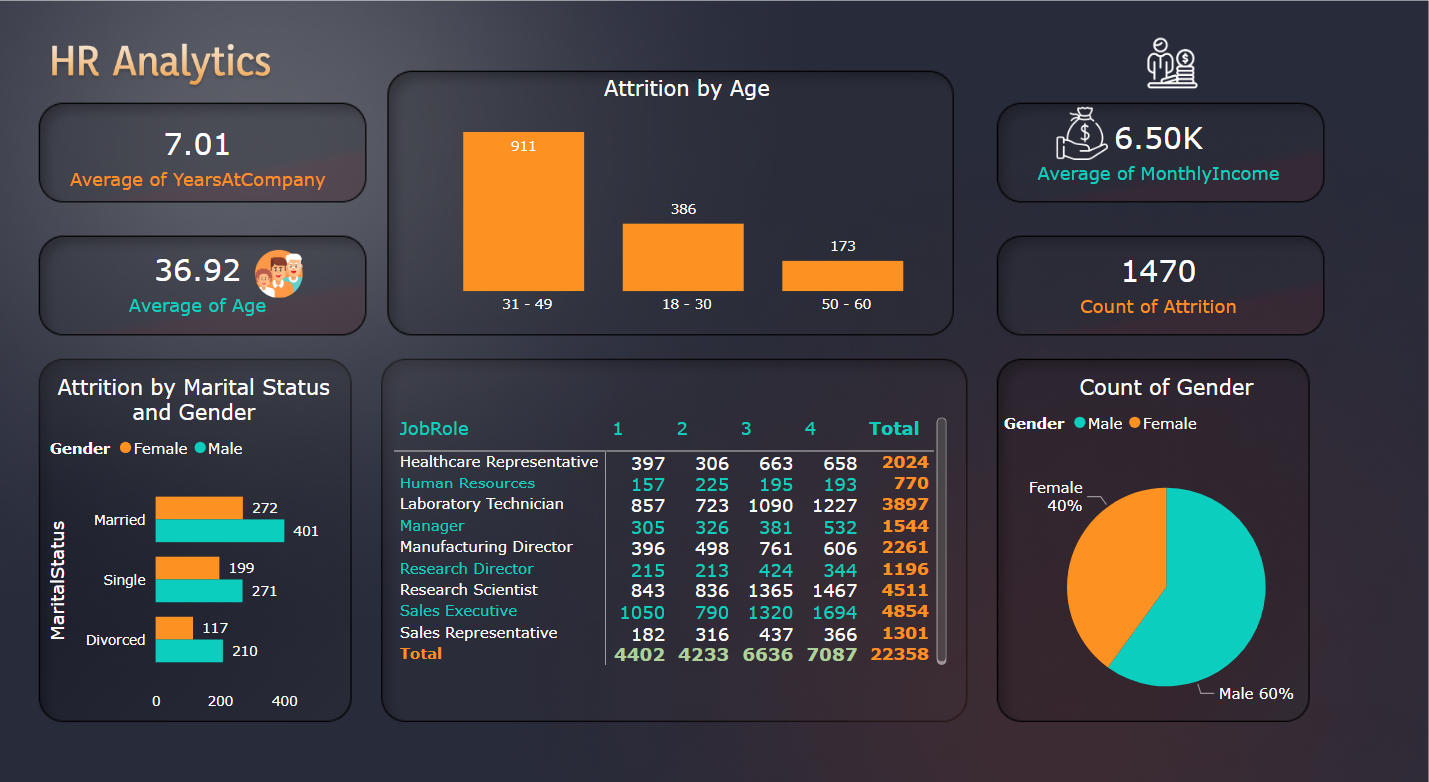

Layout of this report page (visuals, bound fields, positions):
{"tool":"powerbi","page":{"name":"Homepage","canvas":[1280,720],"ordinal":0},"visuals":[{"type":"image","box":[0,0,1279.7,720],"z":0},{"type":"card","fields":{"Values":["CountNonNull(HR-Employee-Attrition.Attrition)"]},"box":[892.8,216.7,284.8,92.2],"z":1000},{"type":"card","fields":{"Values":["Avg(HR-Employee-Attrition.MonthlyIncome)"]},"box":[911.6,96.7,246.3,94.9],"z":2000},{"type":"card","fields":{"Values":["Avg(HR-Employee-Attrition.Age)"]},"box":[86,226.6,182.7,73.4],"z":3000},{"type":"card","fields":{"Values":["Avg(HR-Employee-Attrition.YearsAtCompany)"]},"box":[60,103,249.9,81.5],"z":4000},{"type":"pieChart","title":"Count of Gender ","fields":{"Category":["HR-Employee-Attrition.Gender"],"Y":["CountNonNull(HR-Employee-Attrition.Gender)"]},"box":[885.7,343.9,281.2,307.2],"z":5000},{"type":"clusteredBarChart","title":" Attrition by Marital Status and Gender","fields":{"Category":["HR-Employee-Attrition.MaritalStatus"],"Y":["CountNonNull(HR-Employee-Attrition.Attrition)"],"Series":["HR-Employee-Attrition.Gender"]},"box":[44.1,344.1,266.2,307.4],"z":6000},{"type":"pivotTable","fields":{"Rows":["HR-Employee-Attrition.JobRole"],"Columns":["HR-Employee-Attrition.JobSatisfaction"],"Values":["Sum(HR-Employee-Attrition.PercentSalaryHike)"]},"box":[356,367.7,506.7,231.5],"z":7000},{"type":"columnChart","title":" Attrition by Age","fields":{"Category":["HR-Employee-Attrition.Age (groups)"],"Y":["CountNonNull(HR-Employee-Attrition.Attrition)"]},"box":[355.5,79.7,490.7,229.3],"z":8000},{"type":"image","box":[78.8,37.6,189.9,65.4],"z":9000},{"type":"image","box":[938.7,97.3,57.3,64],"z":10000},{"type":"image","box":[225.5,228.7,55.3,52.1],"z":11000},{"type":"image","box":[1009.9,38,74.6,59.2],"z":12000}]}

Visuals, with their boxes in screenshot pixels (x1, y1, x2, y2), scaled from the page's 1280x720 canvas onto the 1429x782 screenshot:
image: [x1=0, y1=0, x2=1428, y2=781]
card - CountNonNull(HR-Employee-Attrition.Attrition): [x1=997, y1=235, x2=1315, y2=335]
card - Avg(HR-Employee-Attrition.MonthlyIncome): [x1=1018, y1=105, x2=1293, y2=208]
card - Avg(HR-Employee-Attrition.Age): [x1=96, y1=246, x2=300, y2=326]
card - Avg(HR-Employee-Attrition.YearsAtCompany): [x1=67, y1=112, x2=346, y2=200]
"Count of Gender " pieChart: [x1=989, y1=374, x2=1303, y2=707]
" Attrition by Marital Status and Gender" clusteredBarChart: [x1=49, y1=374, x2=346, y2=708]
pivotTable - HR-Employee-Attrition.JobRole x HR-Employee-Attrition.JobSatisfaction: [x1=397, y1=399, x2=963, y2=651]
" Attrition by Age" columnChart: [x1=397, y1=87, x2=945, y2=336]
image: [x1=88, y1=41, x2=300, y2=112]
image: [x1=1048, y1=106, x2=1112, y2=175]
image: [x1=252, y1=248, x2=313, y2=305]
image: [x1=1127, y1=41, x2=1211, y2=106]
